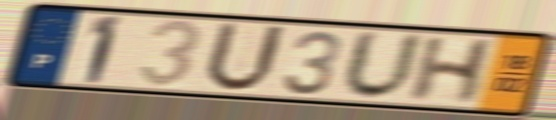1: (86, 14, 126, 86)
3: (136, 18, 209, 90), (282, 28, 343, 96)
H: (404, 35, 500, 106)
U: (339, 27, 428, 104), (200, 19, 290, 95)
